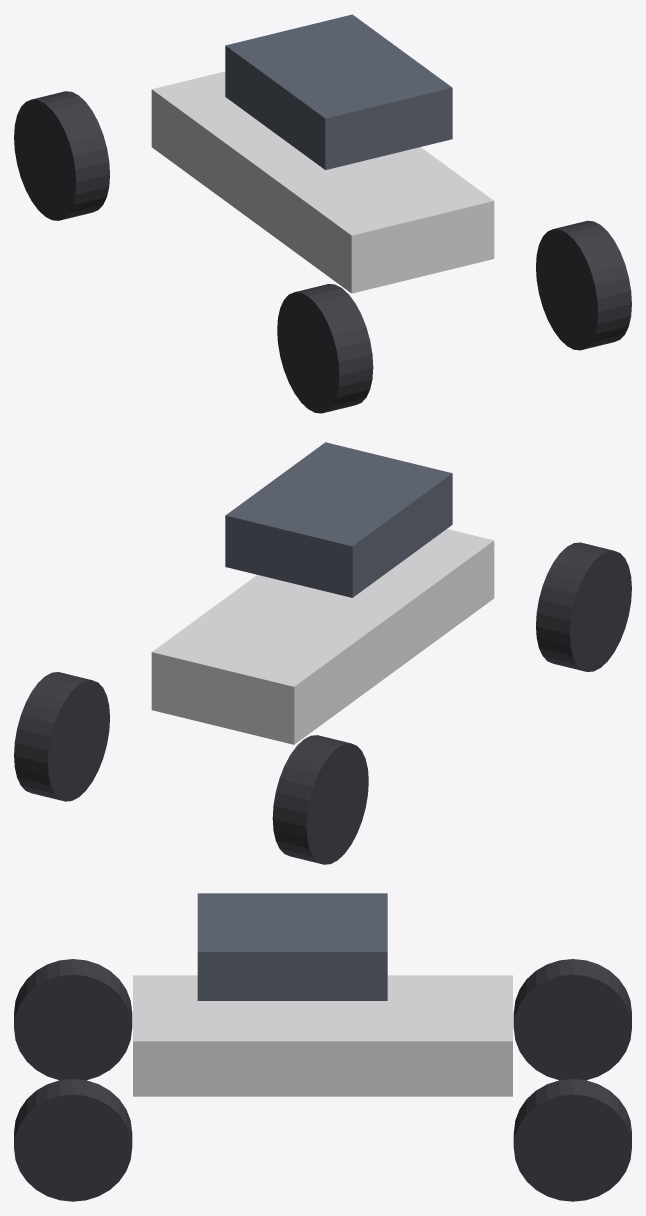
The model's file is car.glb.
The picture shows the model from 3 angles, top to bottom: view 1: azimuth 30°, elevation 25°; view 2: azimuth 150°, elevation 25°; view 3: azimuth 270°, elevation 25°; orthographic projection. The views are drawn at different scales.
Visible parts, largest first — view 1: body, cabin, w_-0.84_-1.48, w_-0.84_1.48, w_0.84_-1.48; view 2: body, cabin, w_0.84_1.48, w_-0.84_-1.48, w_-0.84_1.48; view 3: body, cabin, w_0.84_1.48, w_0.84_-1.48, w_-0.84_1.48, w_-0.84_-1.48.
Boxes of the visible parts, x1=… form: body: x1=151, y1=71, x2=494, y2=293; cabin: x1=225, y1=14, x2=452, y2=169; w_-0.84_-1.48: x1=277, y1=284, x2=373, y2=413; w_-0.84_1.48: x1=14, y1=91, x2=109, y2=220; w_0.84_-1.48: x1=536, y1=220, x2=631, y2=350; body: x1=151, y1=529, x2=494, y2=744; cabin: x1=225, y1=442, x2=452, y2=597; w_0.84_1.48: x1=14, y1=672, x2=109, y2=801; w_-0.84_-1.48: x1=536, y1=542, x2=631, y2=671; w_-0.84_1.48: x1=272, y1=735, x2=368, y2=864; body: x1=133, y1=975, x2=512, y2=1096; cabin: x1=197, y1=893, x2=387, y2=1000; w_0.84_1.48: x1=513, y1=1079, x2=631, y2=1201; w_0.84_-1.48: x1=14, y1=1079, x2=132, y2=1201; w_-0.84_1.48: x1=513, y1=959, x2=631, y2=1080; w_-0.84_-1.48: x1=14, y1=959, x2=132, y2=1080.
Size of the model in its own units: 1.9 by 1.38 by 3.66.
